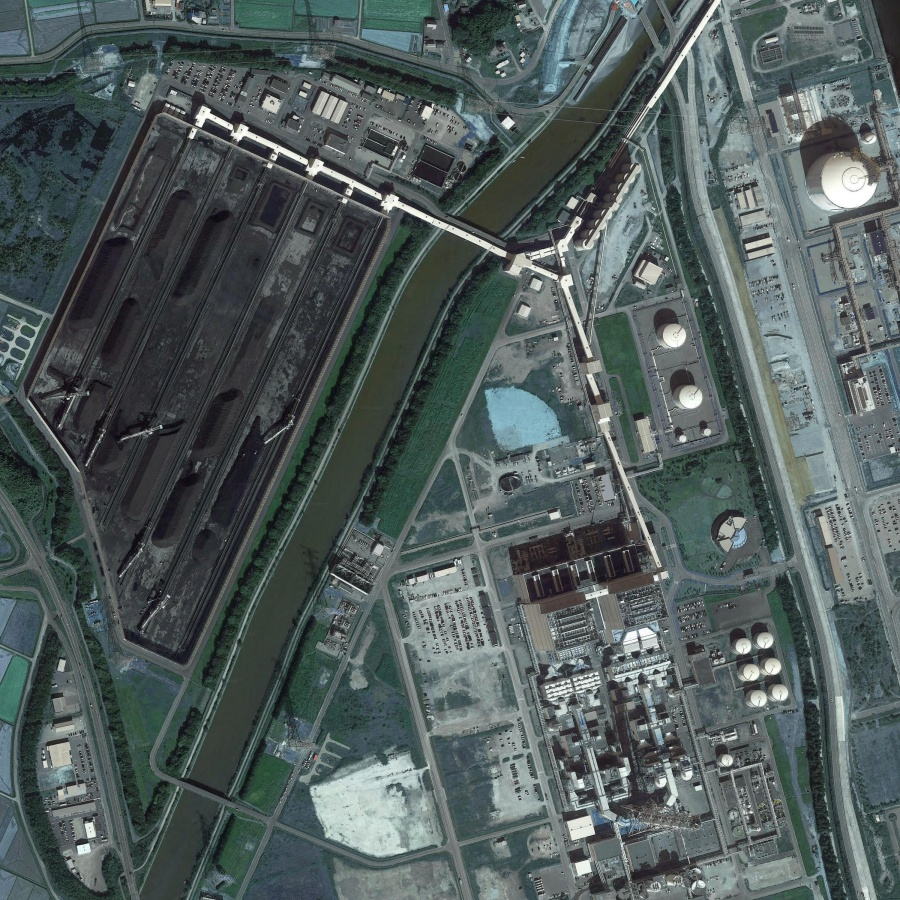PowerPlant: (27, 103, 394, 659)
